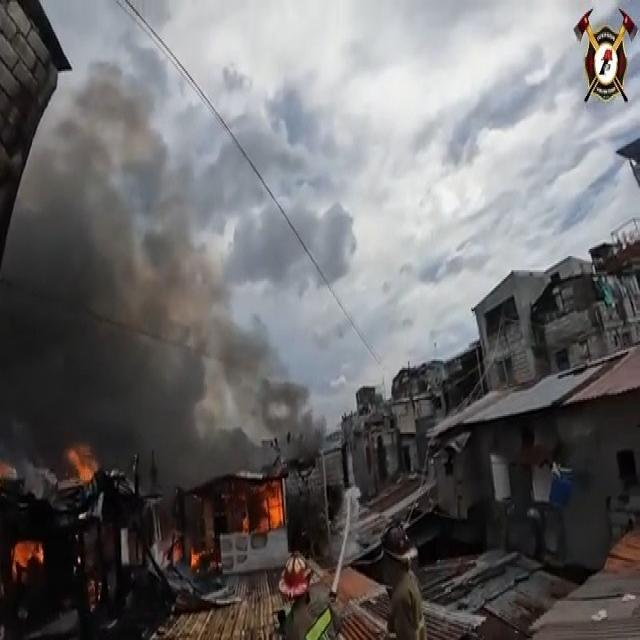Fire: (234, 476, 288, 532), (64, 432, 100, 488), (8, 534, 46, 584), (170, 537, 186, 569), (0, 456, 19, 482), (190, 549, 206, 569)
Smoke: (0, 134, 325, 502)
